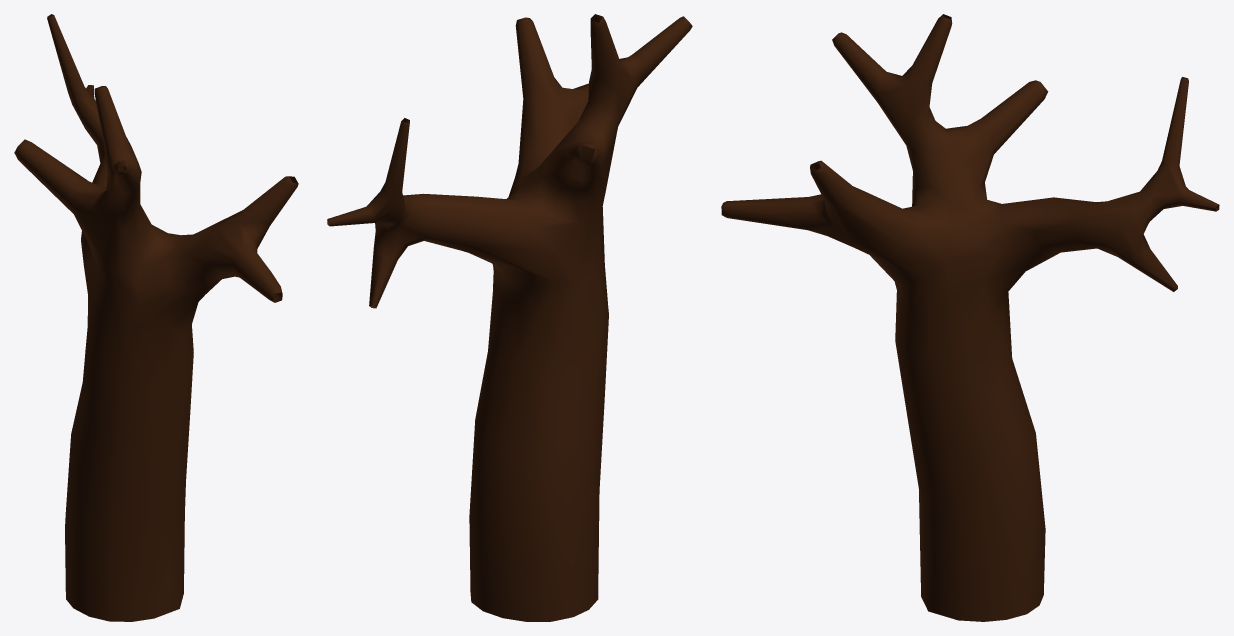
The model's file is Trunk3.fbx.
3 renders of one model, left to right at view 1: azimuth 30°, elevation 25°; view 2: azimuth 150°, elevation 25°; view 3: azimuth 270°, elevation 25°, orthographic. The views are drawn at different scales.
Parts seen in each view (by area): view 1: Trunk3; view 2: Trunk3; view 3: Trunk3.
Part boxes in pixels (left/top/right/bottom): Trunk3: left=14, top=14, right=298, bottom=621; Trunk3: left=327, top=14, right=692, bottom=621; Trunk3: left=721, top=14, right=1219, bottom=621.
Bounding box in the file's own units: 110 × 318 × 256.
